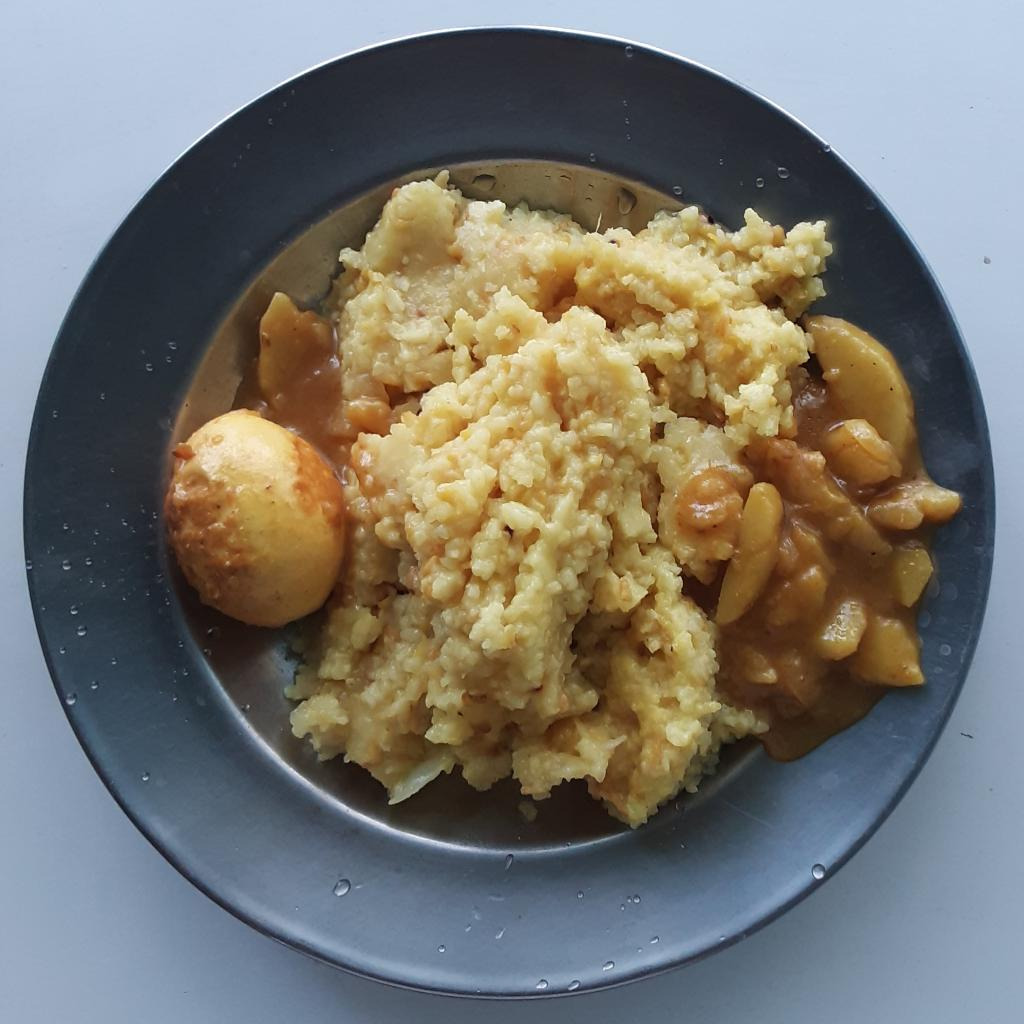egg-boiled: (164, 285, 349, 630)
khichuri: (290, 164, 831, 829)
potato: (687, 316, 962, 762)
